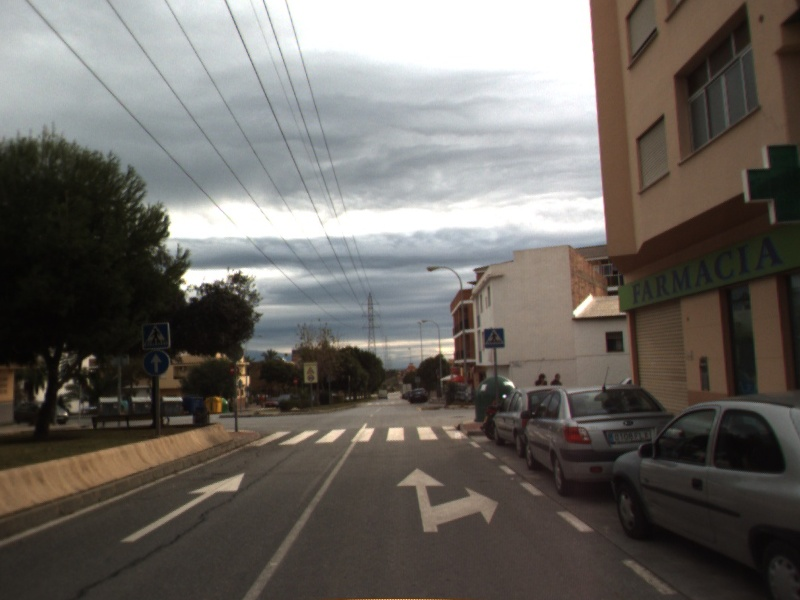STRAIGHT: (118, 471, 246, 544)
STRAIGHT_RIGHT: (394, 466, 501, 534)
